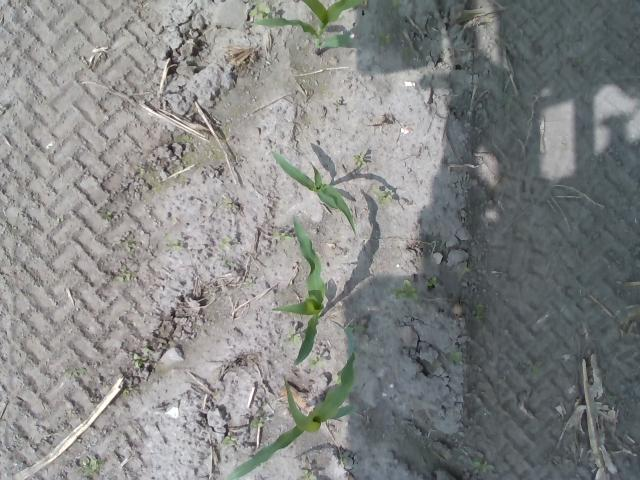Maize: (225, 327, 358, 480), (270, 215, 328, 366), (269, 148, 357, 235), (254, 0, 364, 56)
Weeds: (391, 276, 418, 301), (370, 186, 392, 207), (472, 460, 497, 474), (250, 1, 272, 16), (83, 458, 98, 475), (448, 350, 463, 366), (474, 304, 486, 321), (378, 32, 392, 46), (132, 351, 142, 368), (222, 436, 238, 446), (426, 276, 439, 288), (352, 153, 364, 166), (272, 232, 291, 240), (289, 332, 302, 343), (308, 356, 320, 367), (102, 209, 112, 222), (115, 274, 130, 282), (461, 262, 472, 272), (354, 324, 366, 333), (389, 0, 402, 7), (304, 469, 312, 480), (172, 240, 182, 248)
